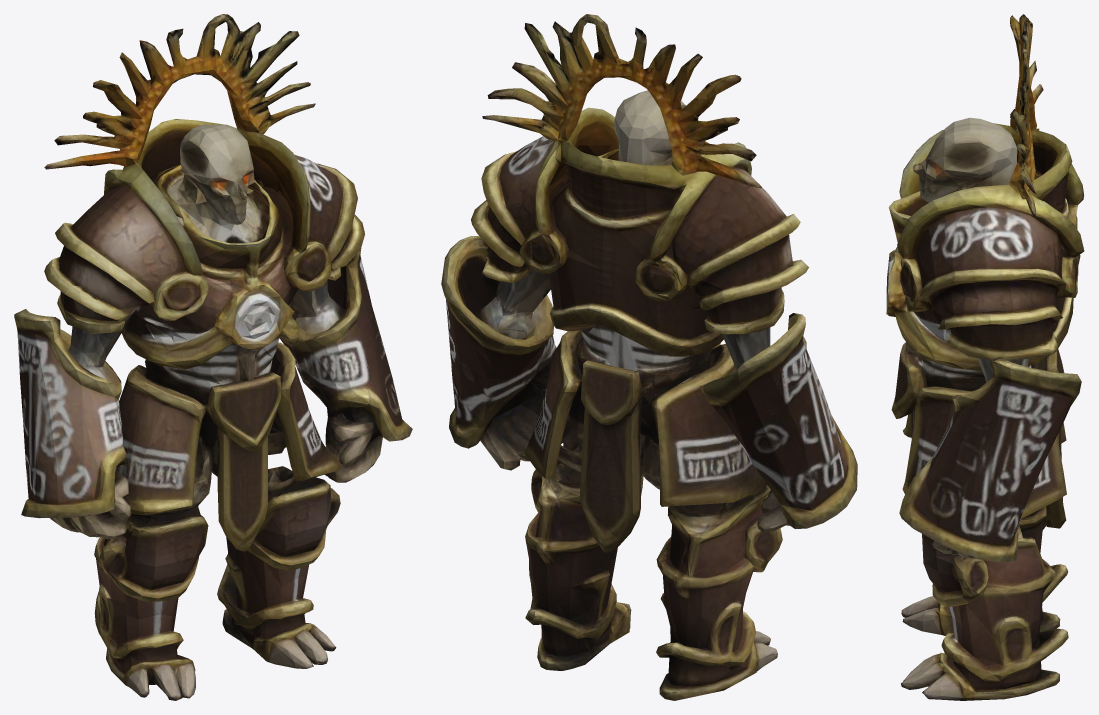
The model's file is brassbone__talosUnforged.glb.
3 views of the same model, side by side, from view 1: azimuth 30°, elevation 25°; view 2: azimuth 150°, elevation 25°; view 3: azimuth 270°, elevation 25° (orthographic). The views are drawn at different scales.
Visible parts, largest first — view 1: world; view 2: world; view 3: world.
Part boxes in pixels (x1=…): world: x1=14, y1=14, x2=412, y2=700; world: x1=441, y1=14, x2=857, y2=700; world: x1=886, y1=14, x2=1084, y2=700.
Bounding box in the file's own units: 0.6322 × 0.9962 × 0.2879.
Materials: 1 (1 with a texture image).
